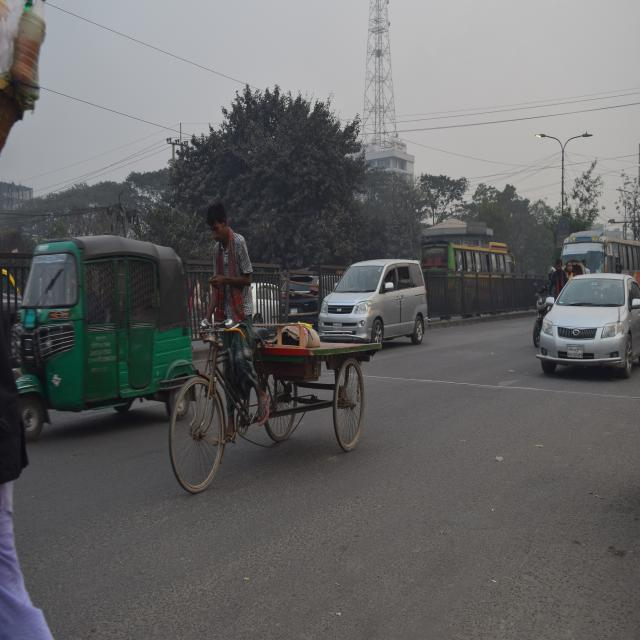bus: (417, 204, 528, 311), (554, 225, 640, 295)
car: (311, 248, 433, 358), (536, 260, 640, 372)
